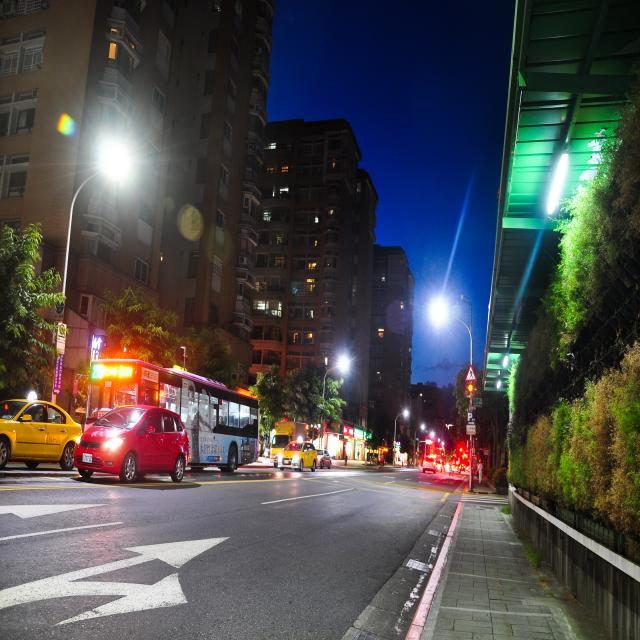Street Light: (49, 142, 134, 462), (429, 299, 474, 490), (322, 357, 349, 472)
